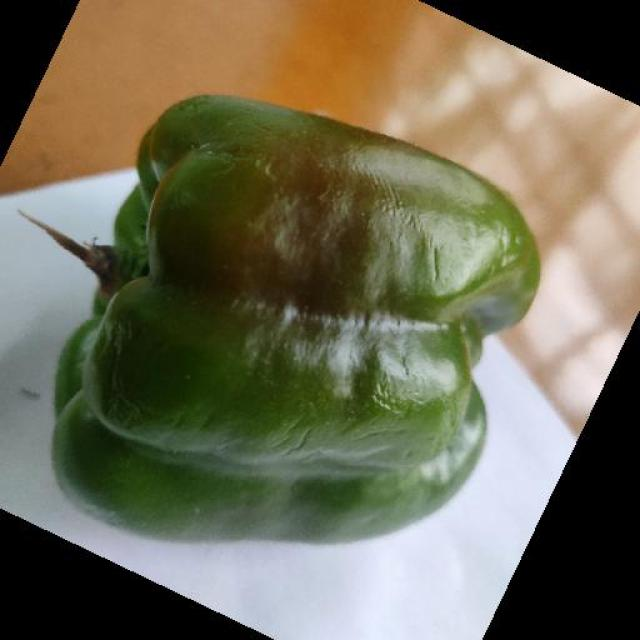Stale_Capsicum: (40, 95, 546, 529)
